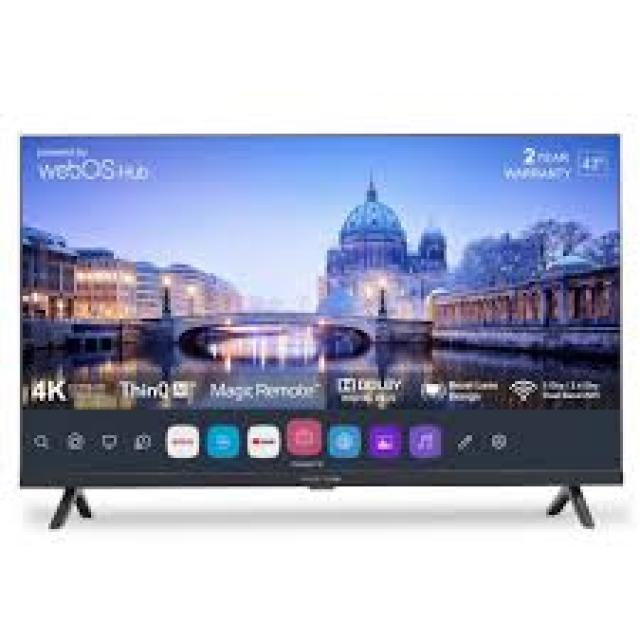tv: (14, 130, 622, 498)
